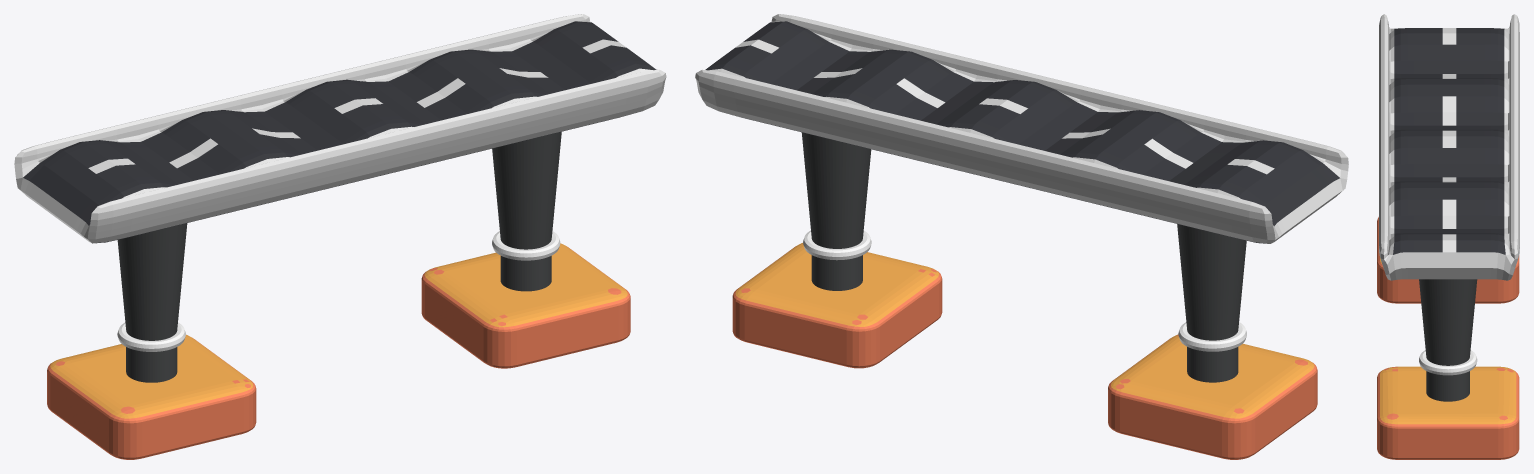
The model's file is Road3.fbx.
3 views of the same model, side by side, from view 1: azimuth 30°, elevation 25°; view 2: azimuth 150°, elevation 25°; view 3: azimuth 270°, elevation 25° (orthographic). The views are drawn at different scales.
Parts seen in each view (by area): view 1: Cube, Cube.001; view 2: Cube, Cube.001; view 3: Cube, Cube.001.
Boxes of the visible parts, left/top/right/bottom form: Cube: left=14, top=14, right=666, bottom=243; Cube.001: left=47, top=132, right=630, bottom=459; Cube: left=695, top=14, right=1348, bottom=243; Cube.001: left=732, top=132, right=1317, bottom=459; Cube: left=1379, top=14, right=1519, bottom=280; Cube.001: left=1377, top=217, right=1519, bottom=459.
Size of the model in its own units: 2590 by 1146 by 650.
